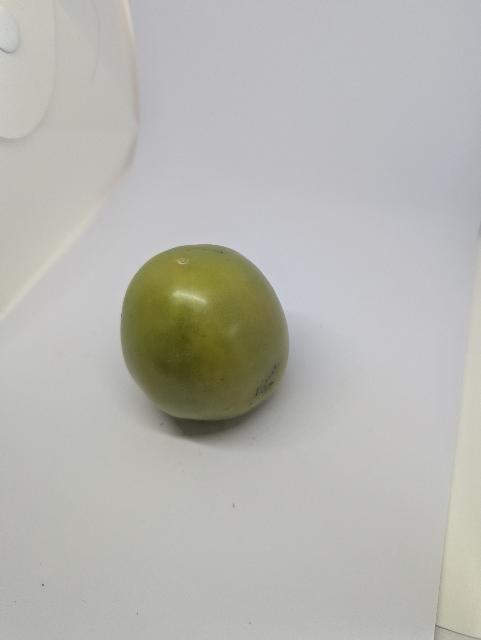green: (118, 234, 307, 433)
